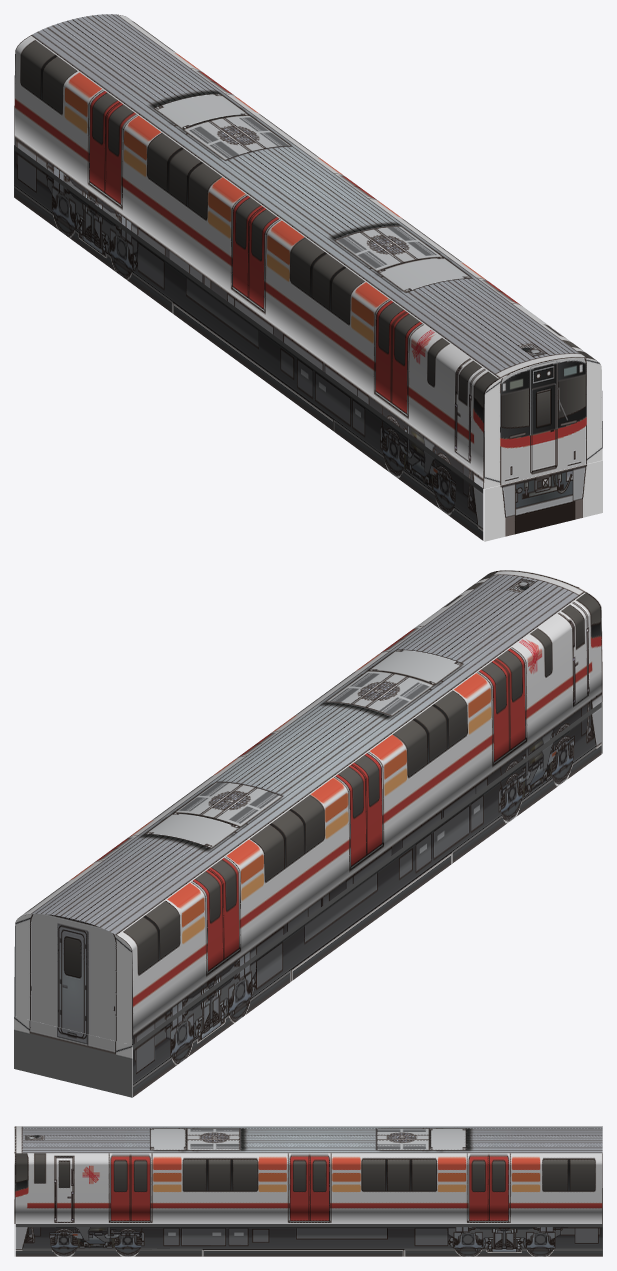
Rendered from car1.glb.
The picture shows the model from 3 angles, top to bottom: view 1: azimuth 30°, elevation 25°; view 2: azimuth 150°, elevation 25°; view 3: azimuth 270°, elevation 25°; orthographic projection. The views are drawn at different scales.
Parts seen in each view (by area): view 1: sanyo-6000-car1; view 2: sanyo-6000-car1; view 3: sanyo-6000-car1.
Boxes of the visible parts, left/top/right/bottom form: sanyo-6000-car1: left=14, top=14, right=602, bottom=541; sanyo-6000-car1: left=14, top=570, right=602, bottom=1097; sanyo-6000-car1: left=14, top=1126, right=602, bottom=1256.
Bounding box in the file's own units: 2.75 × 3.64 × 18.91.
9 materials, 8 textured.
